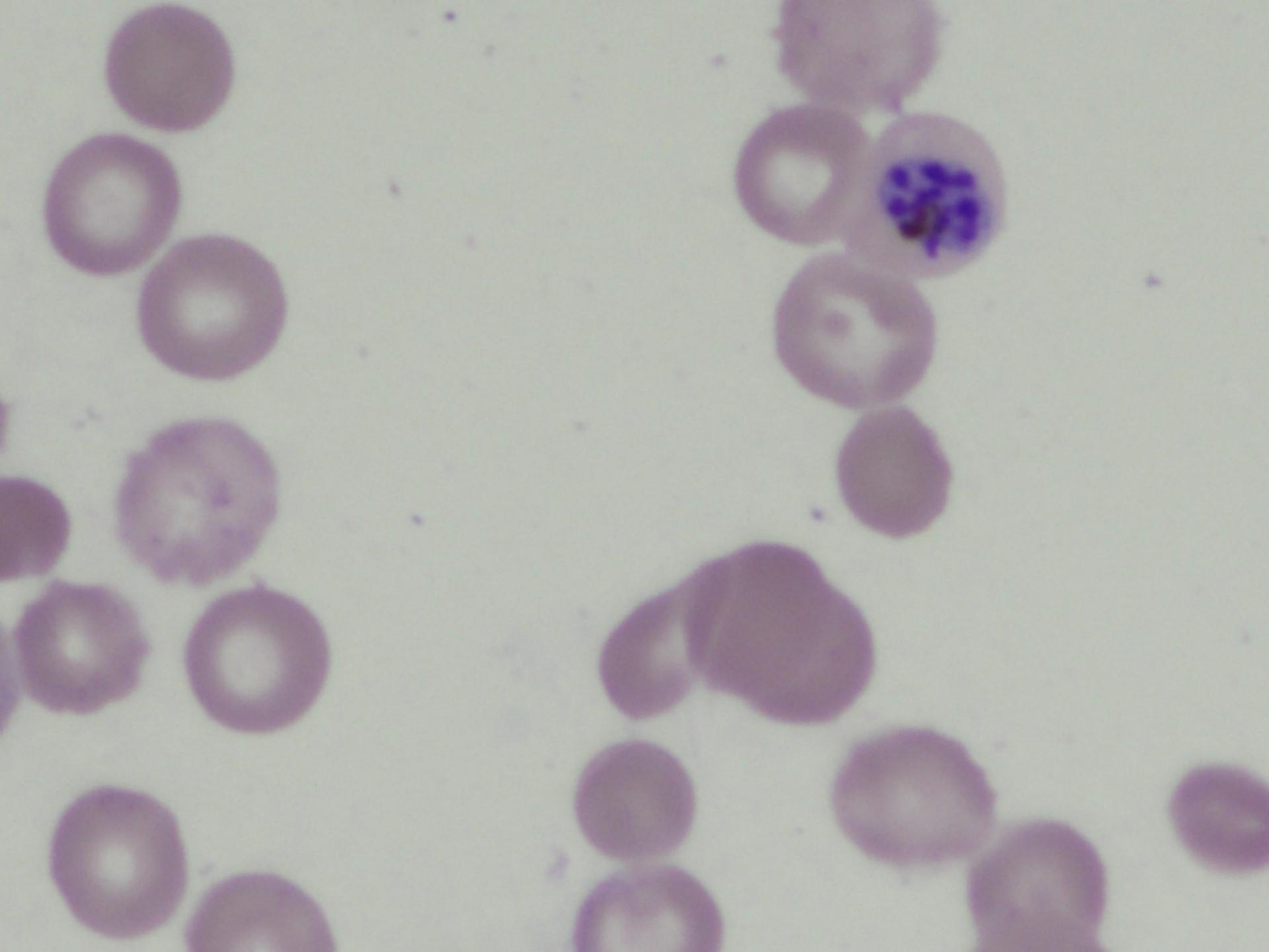Infected: (837, 115, 1009, 282)
Uninfected: (119, 419, 283, 586), (780, 252, 940, 408), (687, 549, 840, 698), (53, 780, 189, 939), (737, 106, 886, 247), (141, 236, 288, 378), (839, 730, 991, 865), (608, 573, 743, 724), (40, 137, 185, 276), (189, 593, 330, 735), (780, 0, 949, 118), (20, 580, 154, 713), (108, 7, 234, 129), (842, 408, 946, 533), (579, 747, 696, 855)
